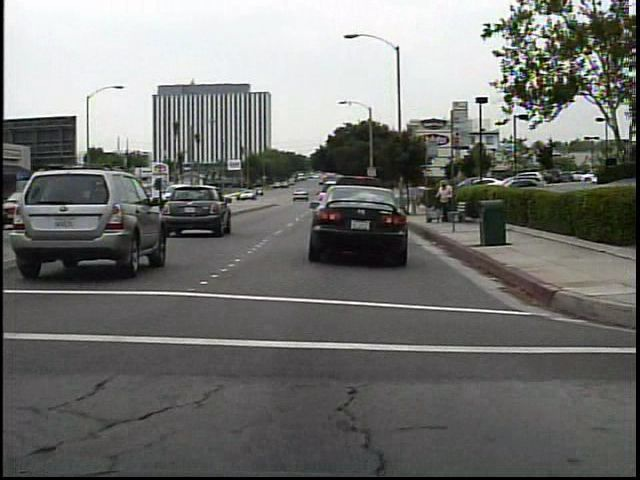person: (434, 176, 458, 225), (404, 178, 426, 220)
